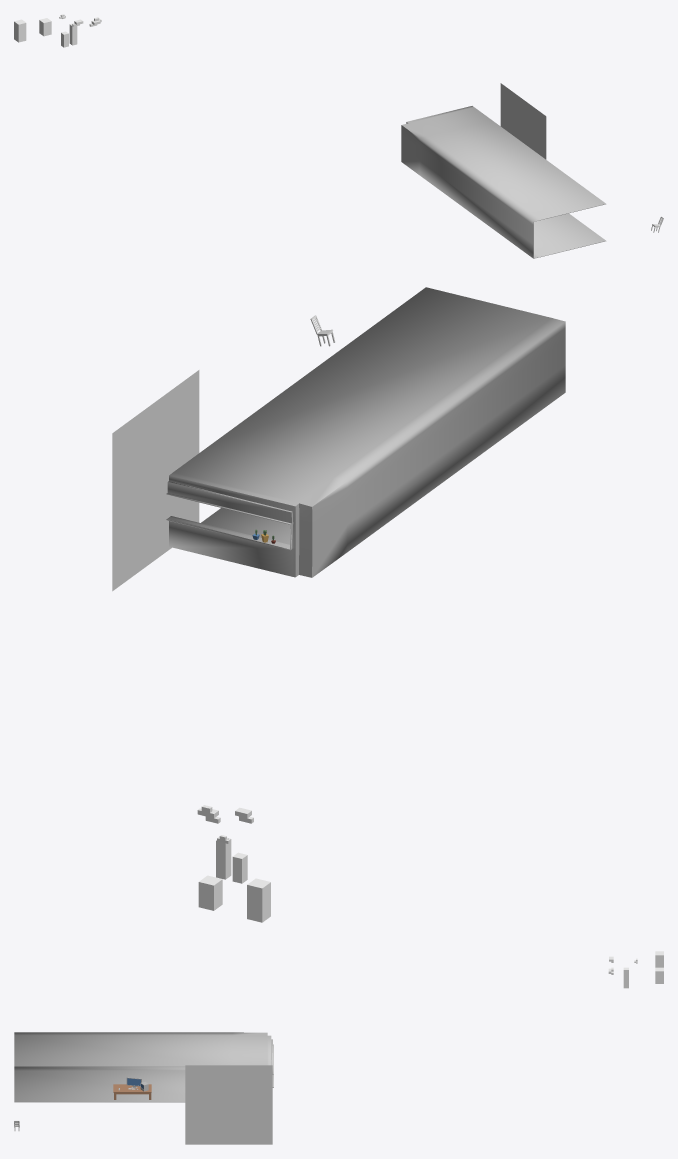
The model's file is Shelby_Room_v3.fbx.
3 views of the same model, one above another, from view 1: azimuth 30°, elevation 25°; view 2: azimuth 150°, elevation 25°; view 3: azimuth 270°, elevation 25° (orthographic). The views are drawn at different scales.
Parts seen in each view (by area): view 1: geo_grp_room, Plane, geo_grp_buildings; view 2: geo_grp_room, Plane, geo_grp_buildings; view 3: geo_grp_room, Plane, geo_grp_buildings, geo_grp_desk.
Boxes of the visible parts, box(x1,y1,x2,y2) form: geo_grp_room: box(401, 106, 605, 258); Plane: box(500, 83, 546, 159); geo_grp_buildings: box(14, 18, 77, 47); geo_grp_room: box(166, 287, 565, 577); Plane: box(112, 370, 199, 591); geo_grp_buildings: box(198, 838, 270, 922); geo_grp_room: box(14, 1032, 273, 1102); Plane: box(185, 1065, 272, 1144); geo_grp_buildings: box(623, 951, 663, 988); geo_grp_desk: box(113, 1084, 151, 1099).
Bounding box in the file's own units: 1578 × 400 × 2979.
